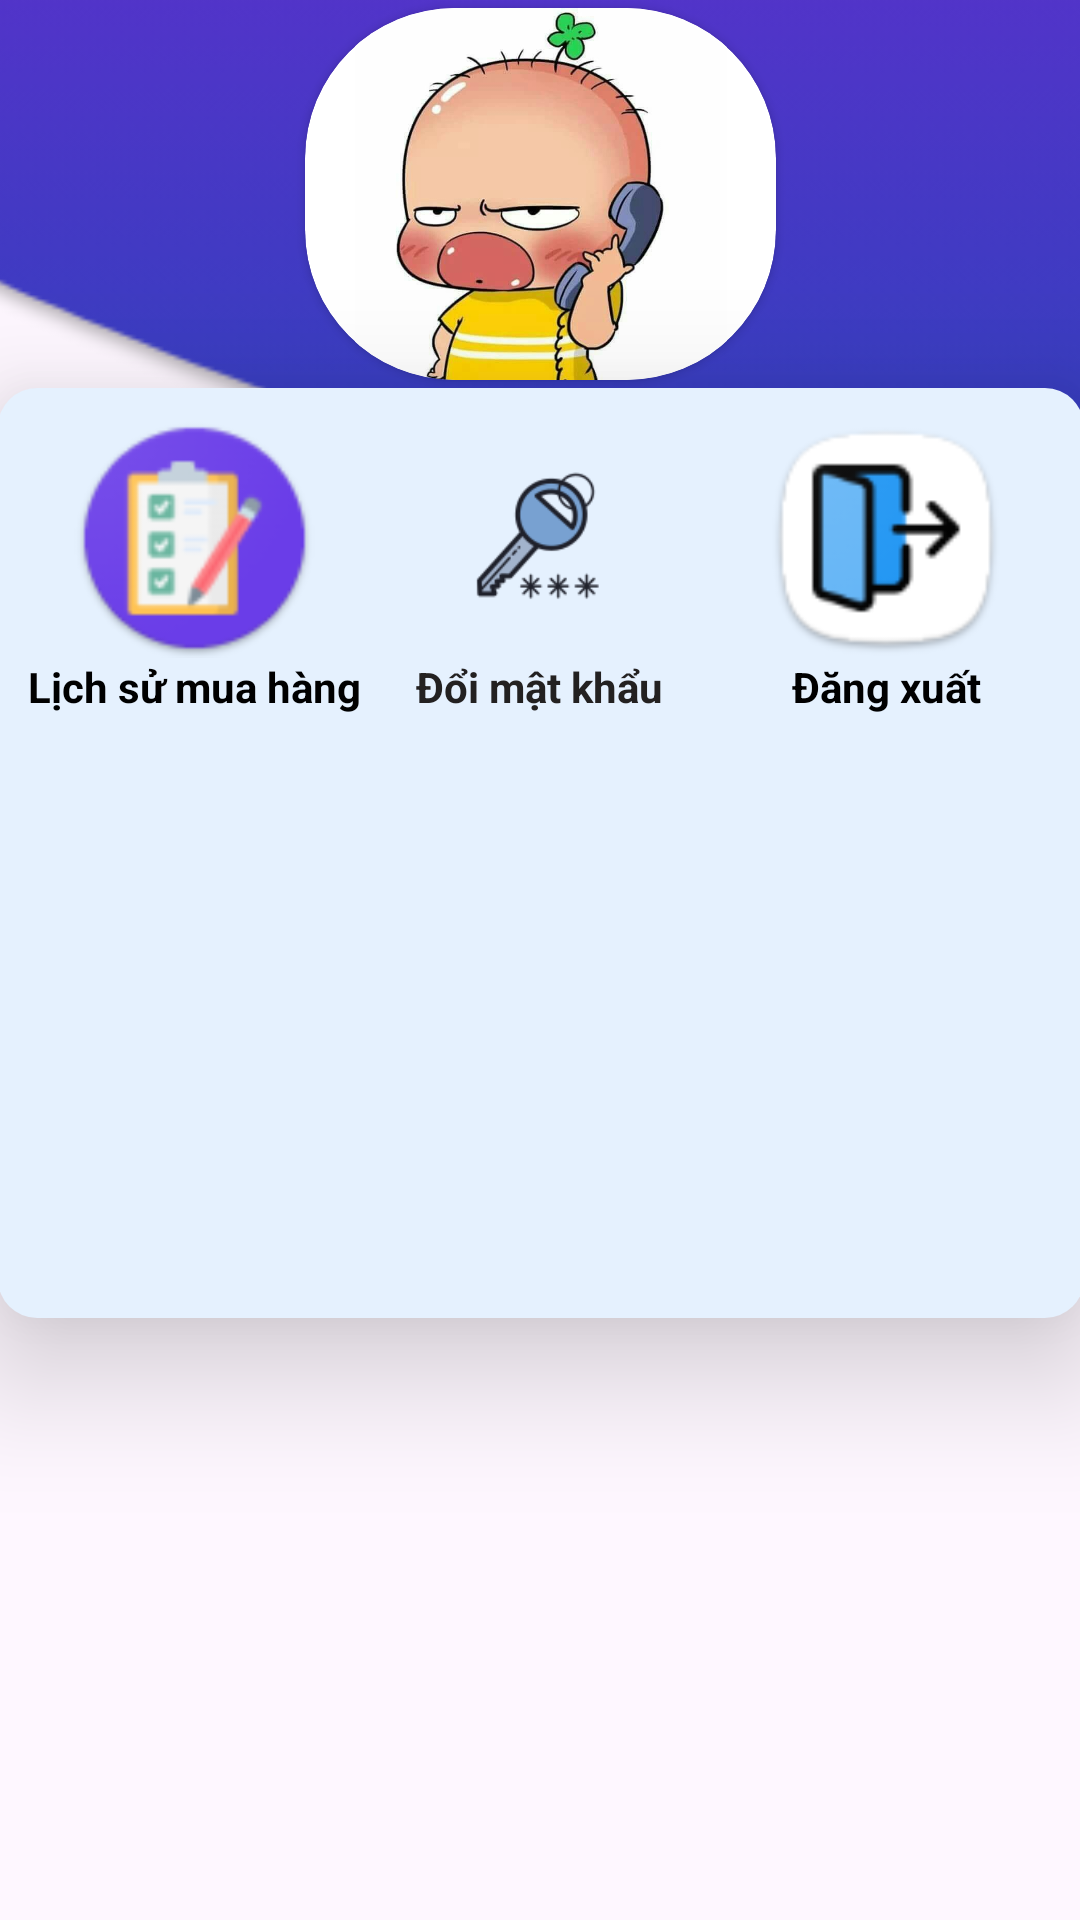

Named icons in this screenshot (1080w x 1920h) and their bounding boxes, box(x1, y1, x2, y2):
iconorder: box(83, 427, 306, 653)
iconpass: box(476, 472, 599, 599)
